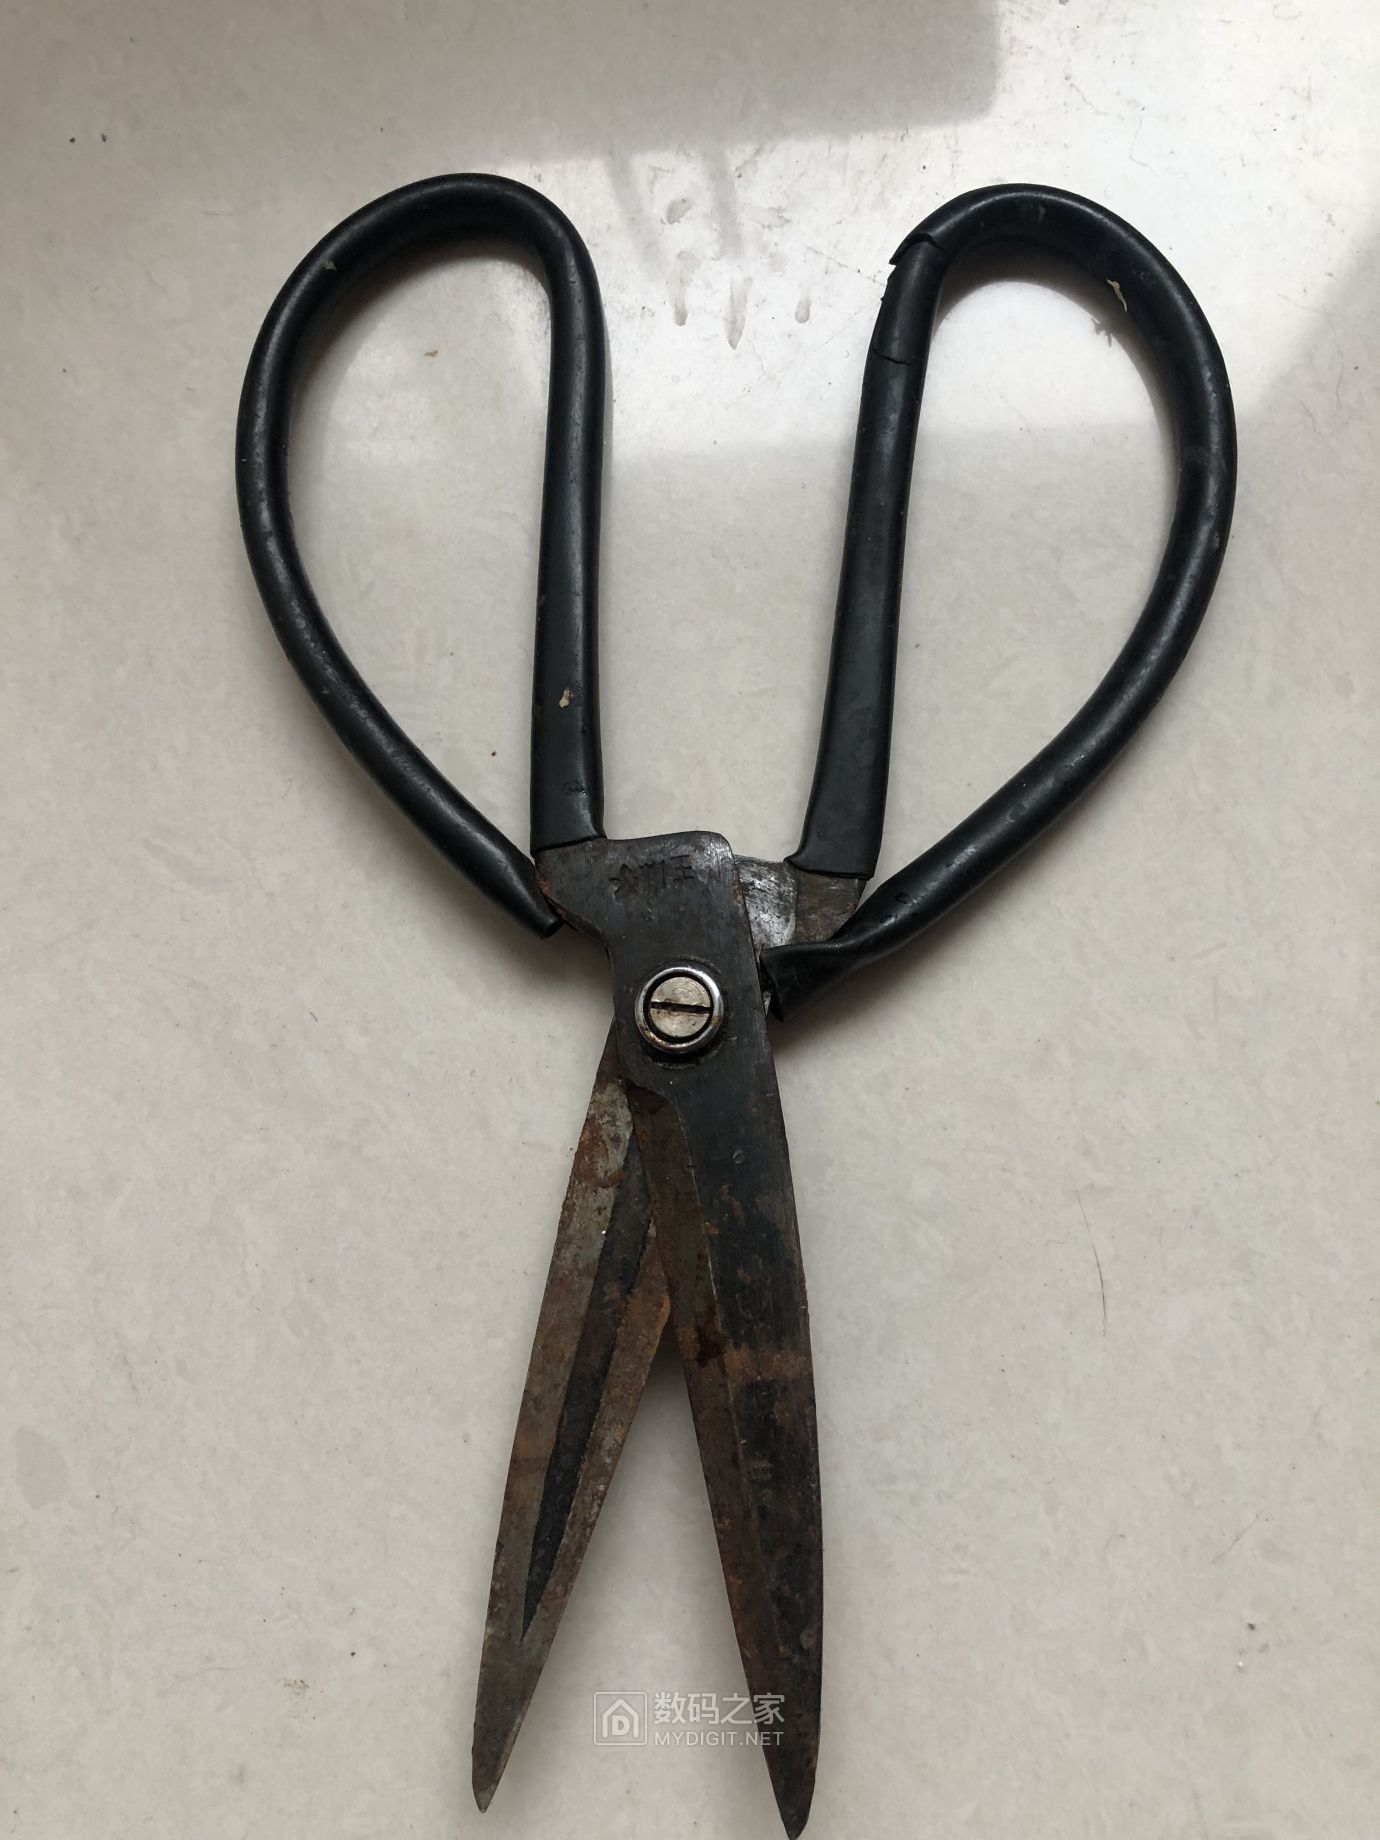scissors: (201, 170, 1250, 1840)
